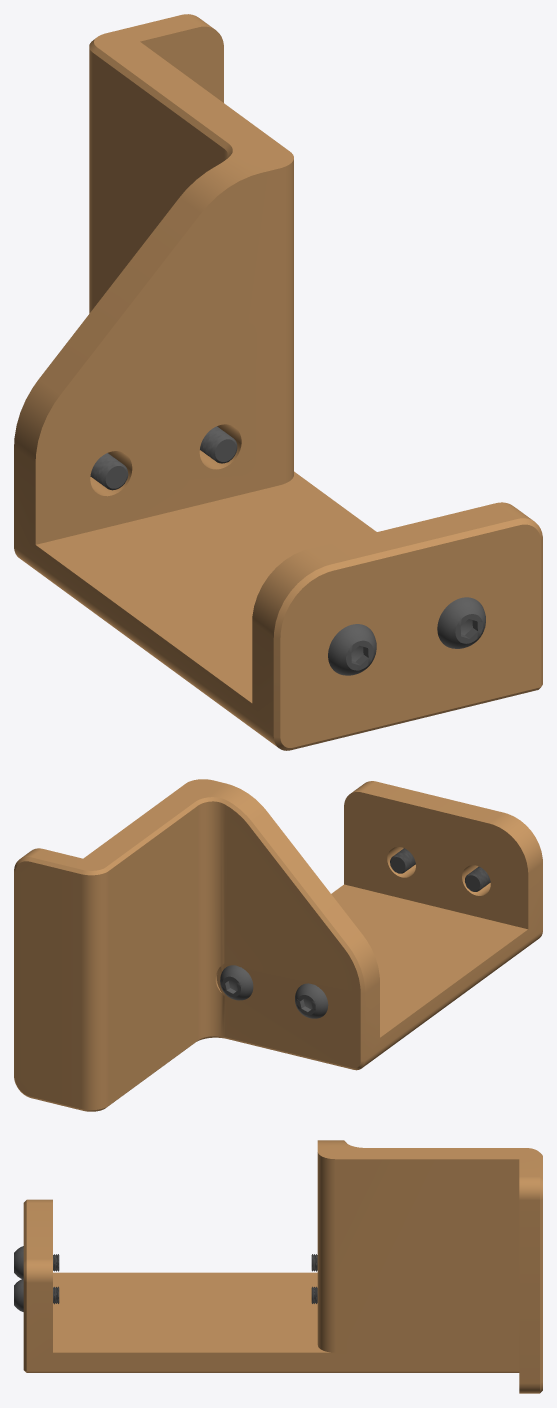
File: active_link2.glb
3 views of the same model, one above another, from view 1: azimuth 30°, elevation 25°; view 2: azimuth 150°, elevation 25°; view 3: azimuth 270°, elevation 25° (orthographic). The views are drawn at different scales.
Parts seen in each view (by area): view 1: left_fingertip_active_link_high; view 2: left_fingertip_active_link_high; view 3: left_fingertip_active_link_high.
Part boxes in pixels (left/top/right/bottom): left_fingertip_active_link_high: left=14, top=14, right=542, bottom=750; left_fingertip_active_link_high: left=14, top=779, right=542, bottom=1111; left_fingertip_active_link_high: left=14, top=1140, right=542, bottom=1393.
Bounding box in the file's own units: 0.042 × 0.04 × 0.0891.
